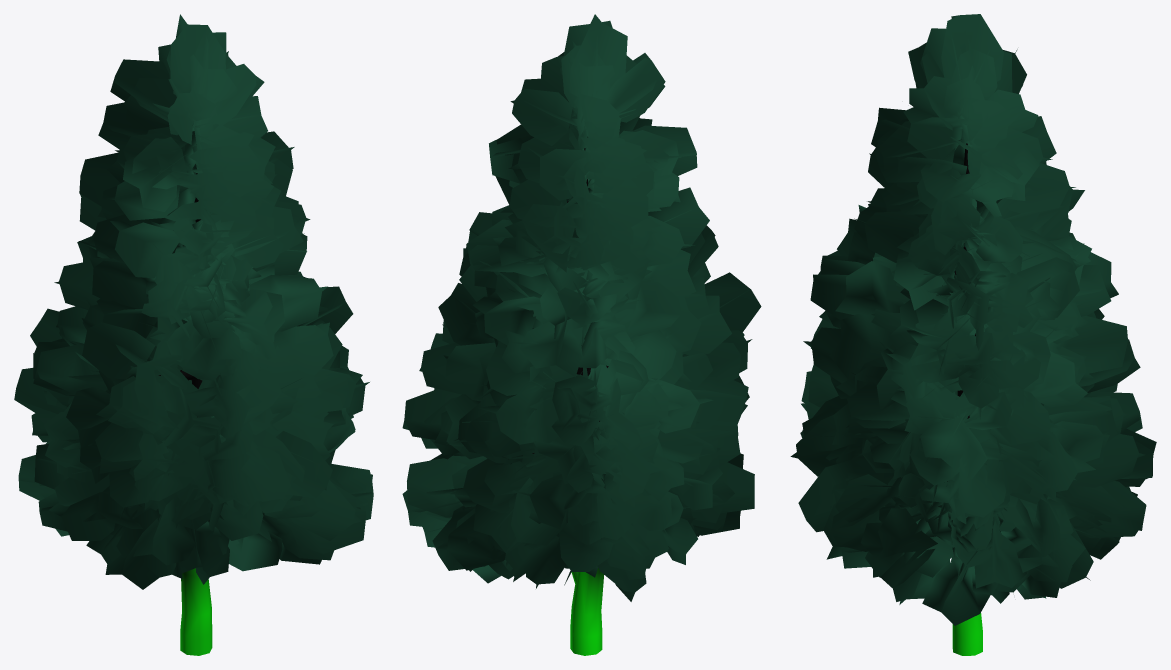
File: SM_FirTree1.fbx
The picture shows the model from 3 angles, left to right: view 1: azimuth 30°, elevation 25°; view 2: azimuth 150°, elevation 25°; view 3: azimuth 270°, elevation 25°; orthographic projection.
Visible parts, largest first — view 1: SM_FirTree1_LOD0; view 2: SM_FirTree1_LOD0; view 3: SM_FirTree1_LOD0.
Boxes of the visible parts, <box> form: SM_FirTree1_LOD0: <box>14,14,373,655</box>; SM_FirTree1_LOD0: <box>402,14,761,655</box>; SM_FirTree1_LOD0: <box>790,14,1156,655</box>.
Size of what is drawn, in the model's own units: 1072 by 2068 by 1089.
